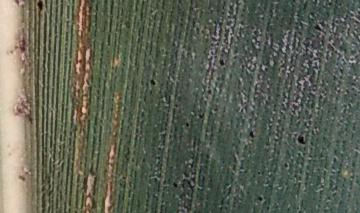tarspot: (296, 135, 307, 146), (36, 1, 44, 13), (247, 129, 256, 139), (313, 23, 323, 32), (301, 1, 310, 11), (196, 112, 206, 120), (218, 57, 226, 66), (308, 9, 316, 18), (354, 9, 360, 21), (255, 195, 264, 202), (149, 77, 156, 86), (283, 161, 290, 169), (205, 88, 213, 95), (212, 104, 219, 112), (184, 121, 191, 129), (333, 1, 341, 8), (171, 181, 178, 188), (308, 16, 315, 23), (338, 67, 345, 74), (331, 74, 337, 82), (310, 1, 319, 6), (255, 169, 261, 176), (326, 1, 332, 8), (265, 204, 270, 212), (290, 1, 298, 3)
